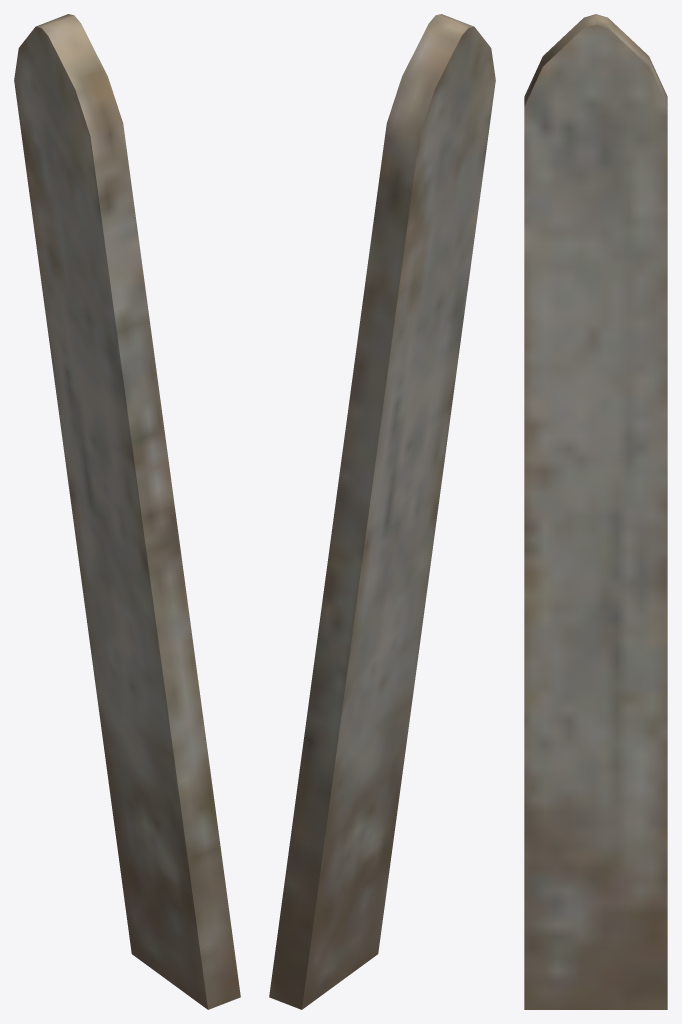
Rendered from Alley_OBJ_Fence_04_Pole_S.fbx.
3 views of the same model, side by side, from view 1: azimuth 30°, elevation 25°; view 2: azimuth 150°, elevation 25°; view 3: azimuth 270°, elevation 25° (orthographic). The views are drawn at different scales.
Parts seen in each view (by area): view 1: Alley_OBJ_Fence_04_Pole_S; view 2: Alley_OBJ_Fence_04_Pole_S; view 3: Alley_OBJ_Fence_04_Pole_S.
Boxes of the visible parts, <box> form: Alley_OBJ_Fence_04_Pole_S: <box>14,14,240,1009</box>; Alley_OBJ_Fence_04_Pole_S: <box>269,14,495,1009</box>; Alley_OBJ_Fence_04_Pole_S: <box>524,14,667,1009</box>.
Bounding box in the file's own units: 18.28 × 107 × 15.
Materials: 1 (1 with a texture image).
